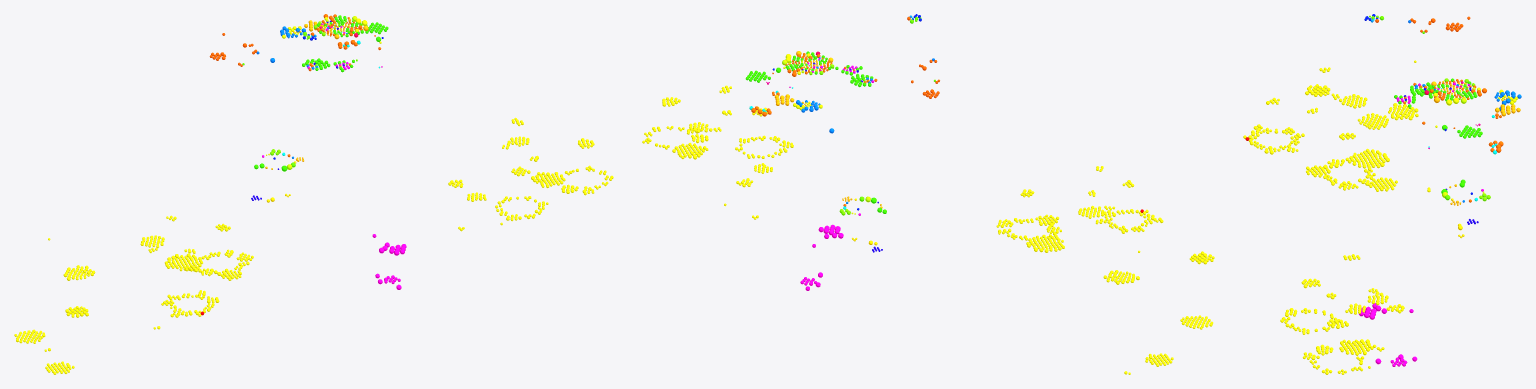
Rendered from task-d4deff835-layout.gltf.
3 renders of one model, left to right at view 1: azimuth 30°, elevation 25°; view 2: azimuth 150°, elevation 25°; view 3: azimuth 270°, elevation 25°, orthographic. The views are drawn at different scales.
Parts seen in each view (by area): view 1: normal_java_files, normal_tar_files; view 2: normal_java_files, normal_tar_files, normal_zip_files; view 3: normal_java_files, normal_tar_files, normal_zip_files, normal_apk_files, normal_7z_files, normal_xml_files.
Boxes of the visible parts, box(x1,y1,x2,y2) form: normal_java_files: box(14, 117, 613, 374); normal_tar_files: box(254, 15, 388, 171); normal_java_files: box(642, 85, 1214, 374); normal_tar_files: box(745, 51, 886, 213); normal_zip_files: box(751, 53, 877, 206); normal_java_files: box(1243, 60, 1430, 374); normal_tar_files: box(1394, 78, 1482, 193); normal_zip_files: box(1403, 79, 1503, 202); normal_apk_files: box(1359, 303, 1417, 366); normal_7z_files: box(1431, 80, 1520, 188); normal_xml_files: box(1375, 16, 1470, 98).
Bounding box in the file's own units: 512 × 237 × 199.
